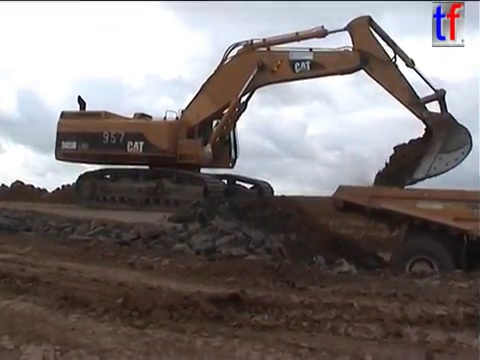excavator: (51, 12, 475, 216)
truck: (328, 182, 480, 305)
